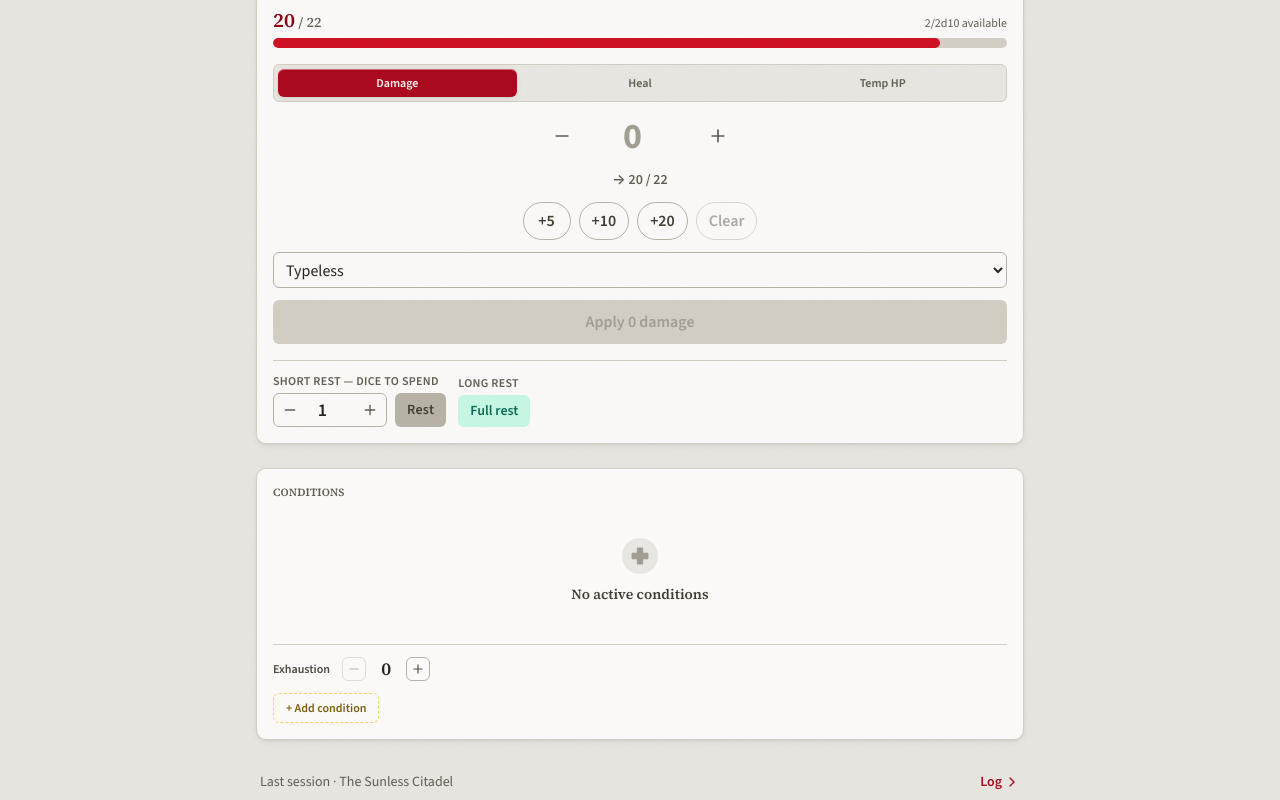
Test: CombatPanel (idle #1086) › shows a one-line last-session log row and opens the log overlay on click
The width and height of the screenshot is (1280, 800).
(page scrolled)
Step 1. Click the button with aria-label "open last session log" → click(357, 781), box top-left (256, 764), bottom-right (1024, 799)
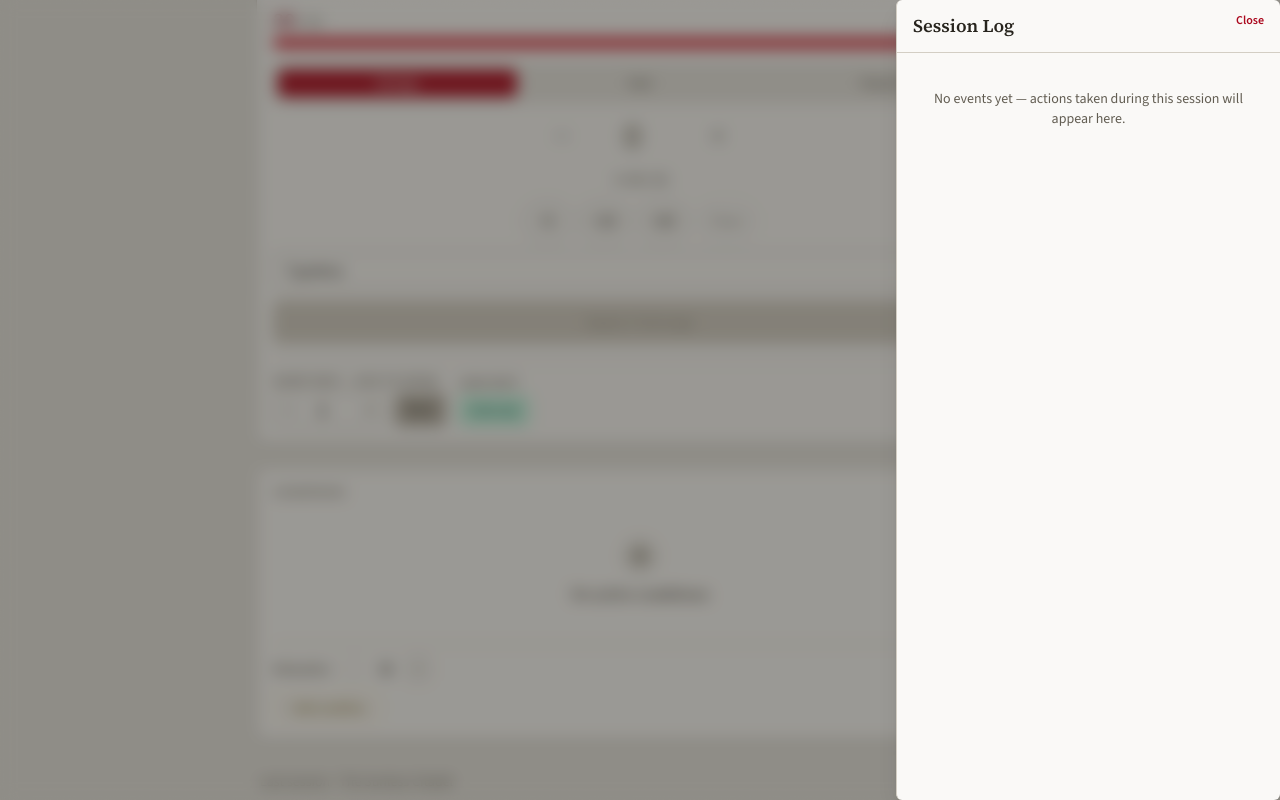
Expected: the heading "Session Log" is shown, top-left (913, 12), bottom-right (1014, 40)
